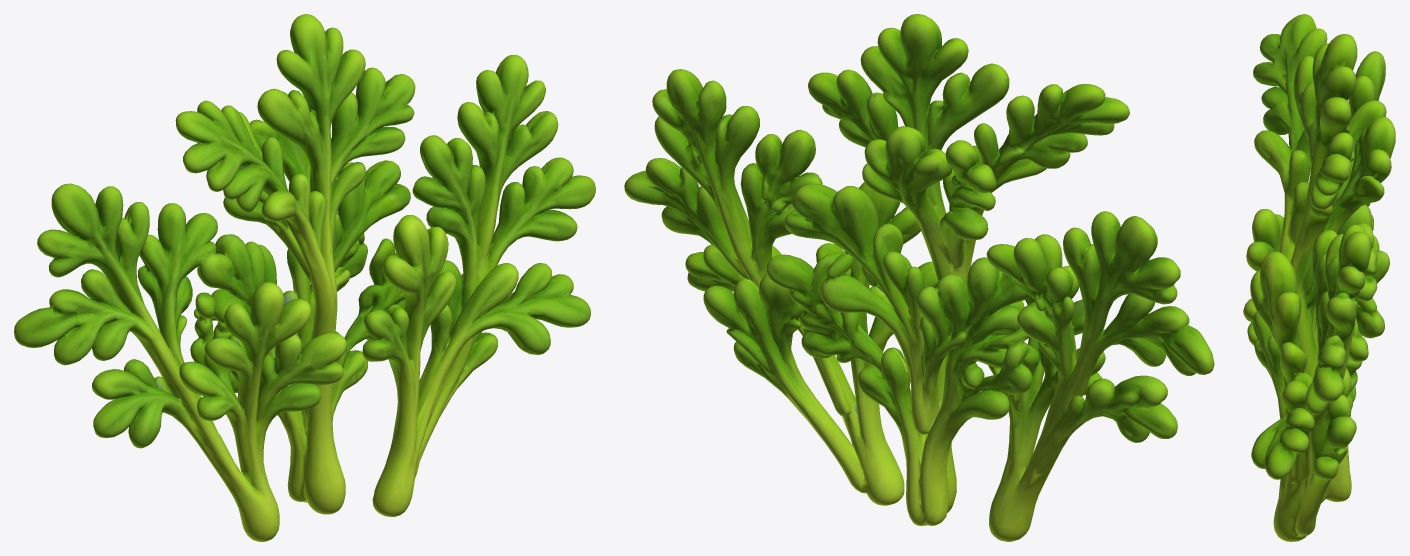
The model's file is carrot-sprout.glb.
3 views of the same model, side by side, from view 1: azimuth 30°, elevation 25°; view 2: azimuth 150°, elevation 25°; view 3: azimuth 270°, elevation 25° (orthographic). The views are drawn at different scales.
Size of the model in its own units: 1.9 by 1.59 by 0.46.
1 material, 1 textured.
